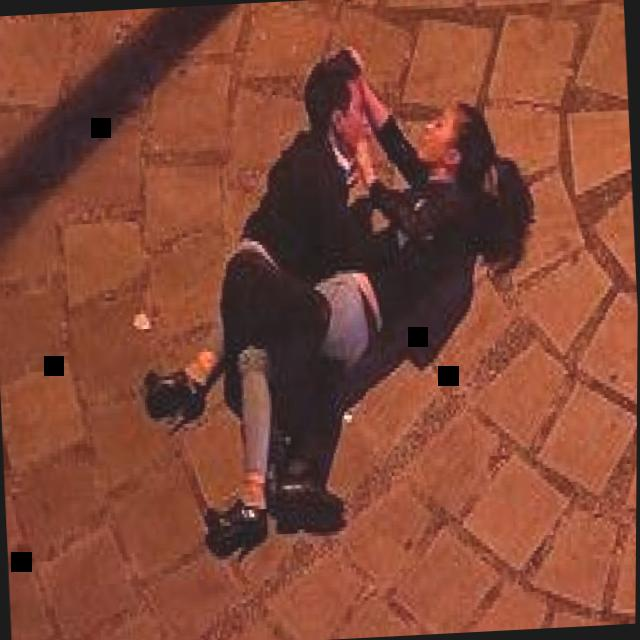Fall-Detected: (104, 30, 543, 568)
